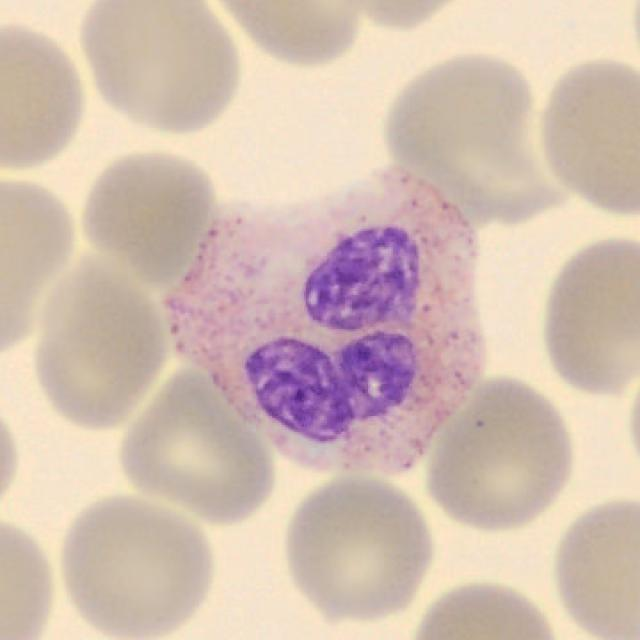Neutrofilo segmentado: (164, 167, 485, 478)
